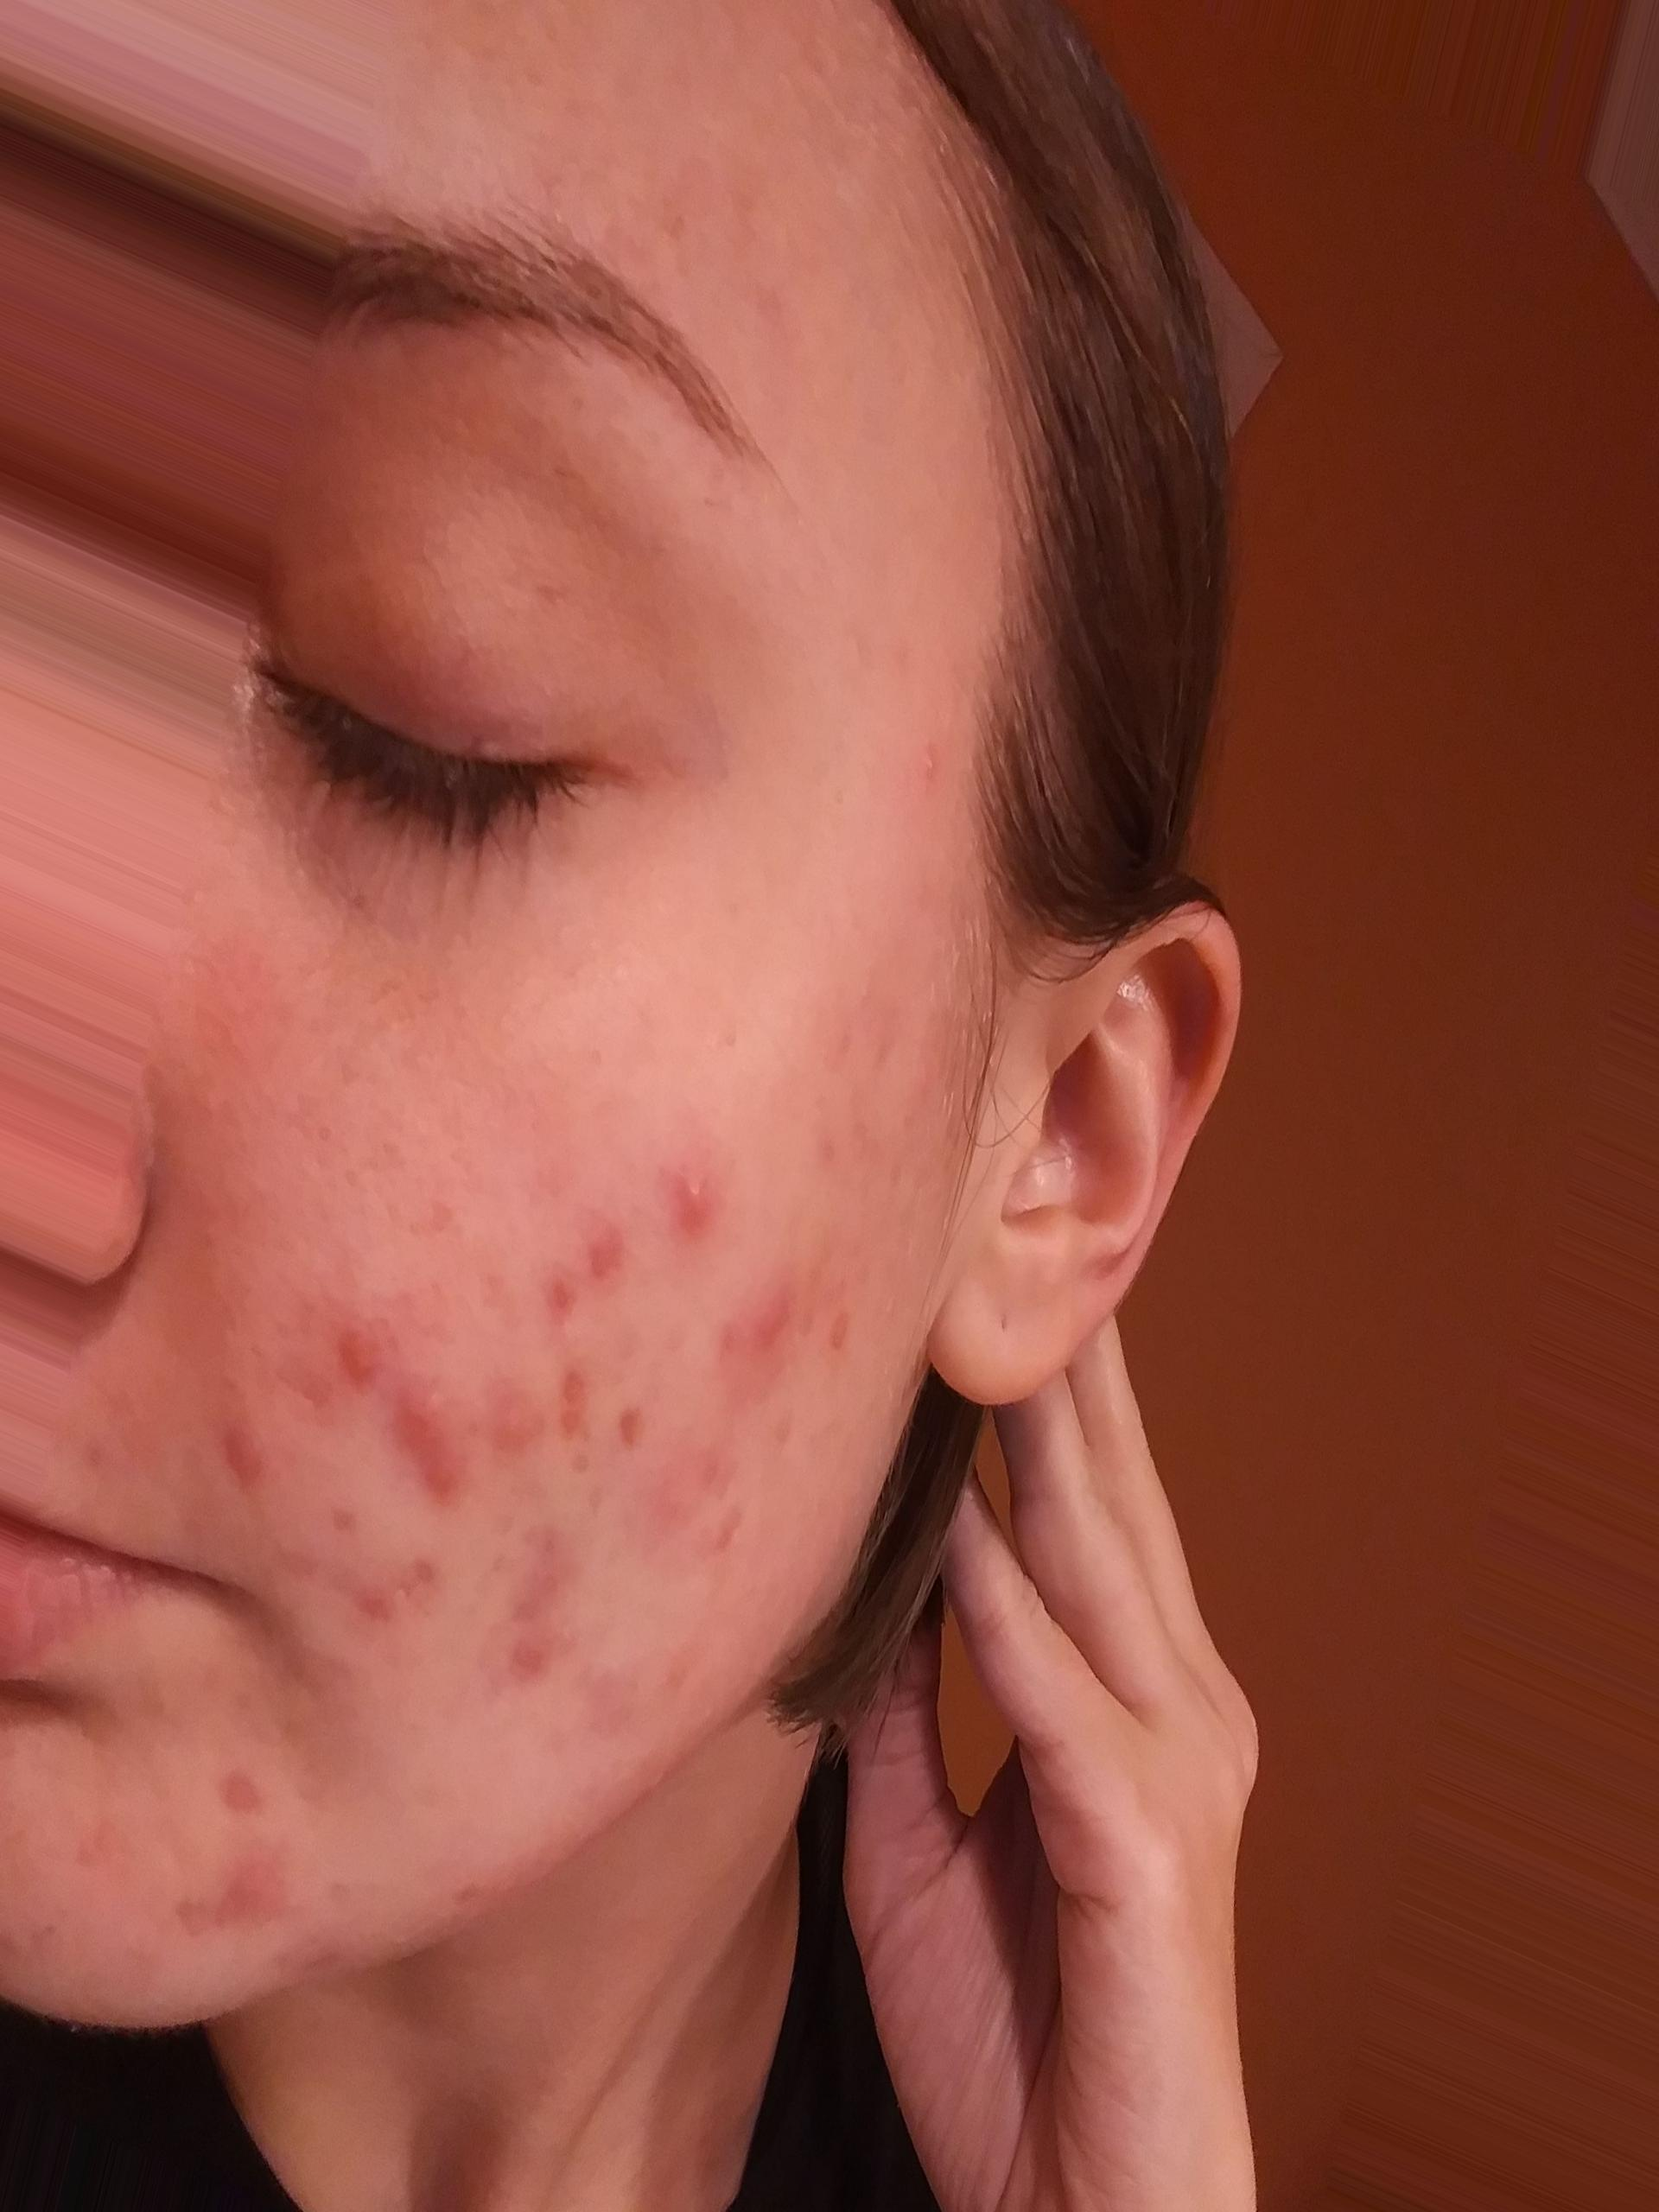Acne: (803, 920, 911, 1235), (739, 1275, 885, 1435), (169, 1832, 324, 1970), (169, 1400, 310, 1538), (333, 1547, 488, 1667), (514, 1543, 622, 1702), (471, 1360, 601, 1482), (295, 1322, 450, 1409), (552, 1223, 666, 1331), (692, 1491, 777, 1602), (211, 1759, 319, 1836), (403, 1404, 471, 1521), (660, 1141, 742, 1235), (596, 1392, 678, 1477)
